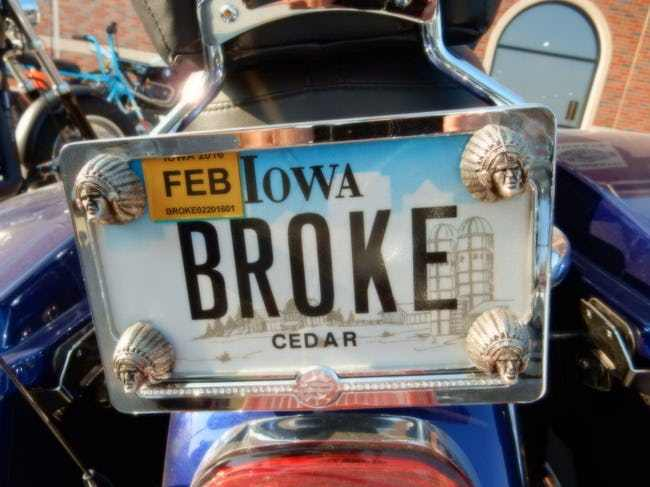number_plate: (55, 112, 557, 411)
